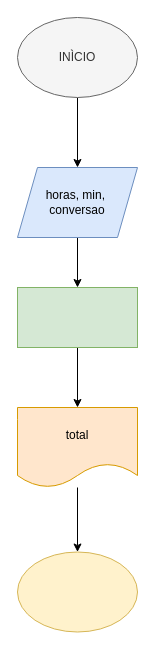
The diagram is 155 pixels wide and 650 high, and some of its shapes have lost their labels. Here are the shapes that lost their labels. From the top down, the box of each, then its label:
(16, 286, 138, 348): total(min/60)
(16, 551, 138, 632): FIM
